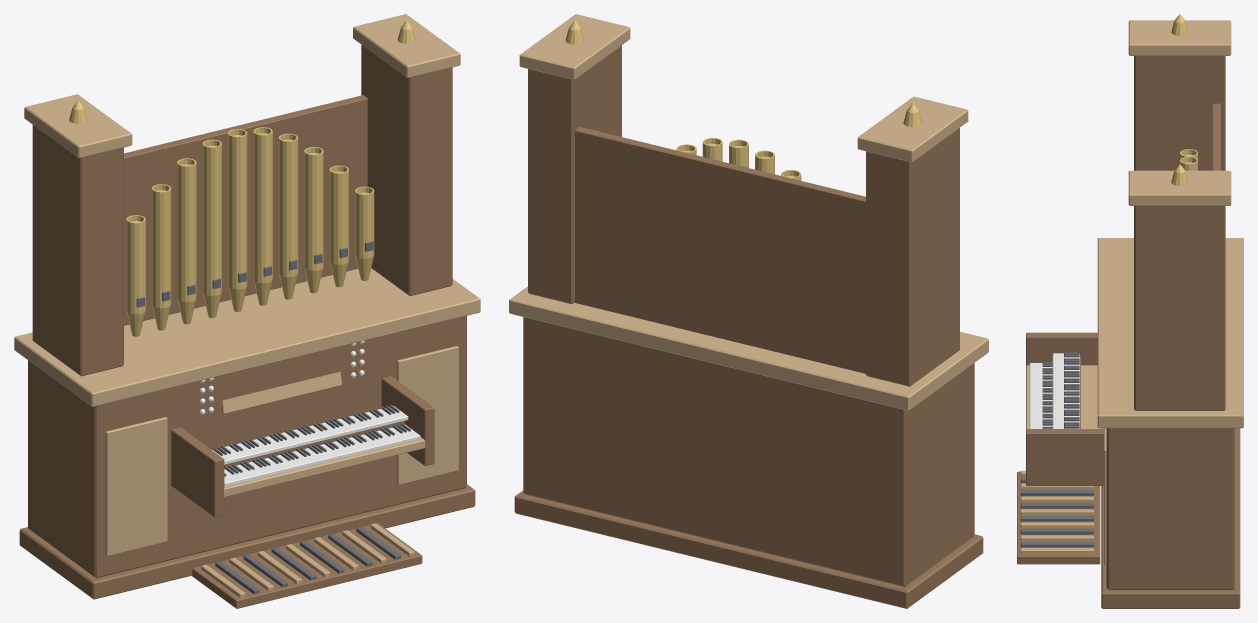
File: wedding-and-chapel-kit-chapel-pipe-organ-a3c7f74e__39388.glb
3 views of the same model, side by side, from view 1: azimuth 30°, elevation 25°; view 2: azimuth 150°, elevation 25°; view 3: azimuth 270°, elevation 25° (orthographic). The views are drawn at different scales.
Visible parts, largest first — view 1: chapel-pipe-organ; view 2: chapel-pipe-organ; view 3: chapel-pipe-organ.
Part boxes in pixels (x1,y1,x2,y2): chapel-pipe-organ: [14, 14, 480, 608]; chapel-pipe-organ: [509, 14, 988, 608]; chapel-pipe-organ: [1017, 14, 1243, 608].
Size of the model in its own units: 2.3 by 2.61 by 1.24.
